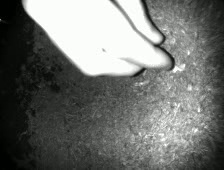corn: (178, 61, 187, 73), (169, 64, 179, 74)
